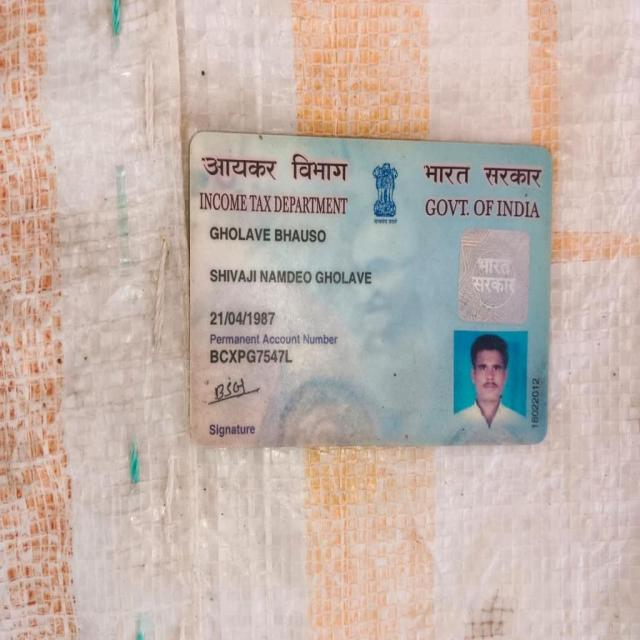pan_card: (190, 132, 555, 443)
